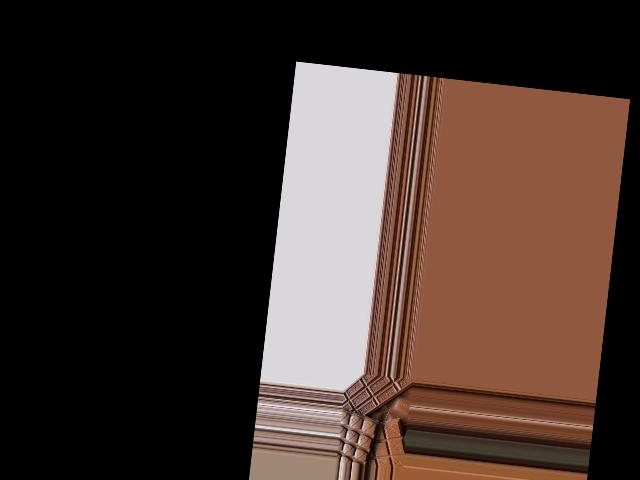chocolate: (360, 415, 404, 469)
